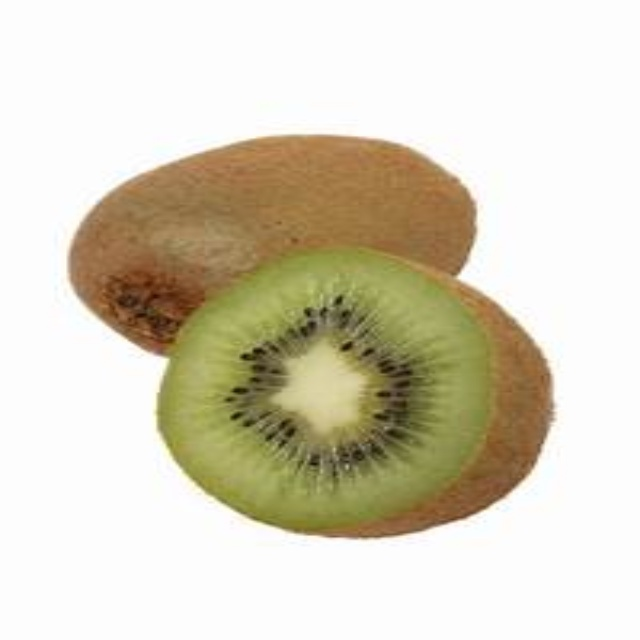kiwi: (164, 248, 560, 539), (78, 126, 483, 357)
